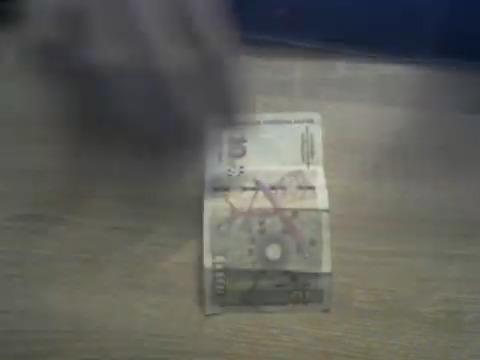10leva: (200, 112, 334, 317)
